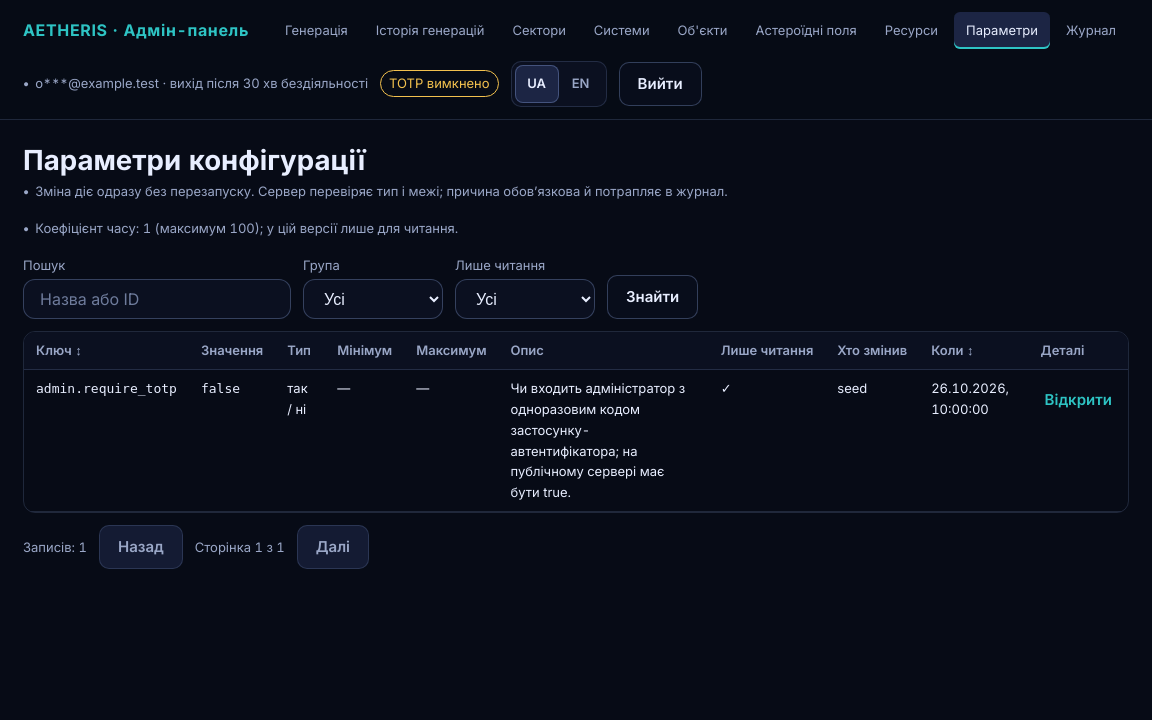
Test case: AdminApp › keeps a read-only parameter closed
Click the button "Відкрити" at coordinates (1078, 400), box [1041,378,1116,422]
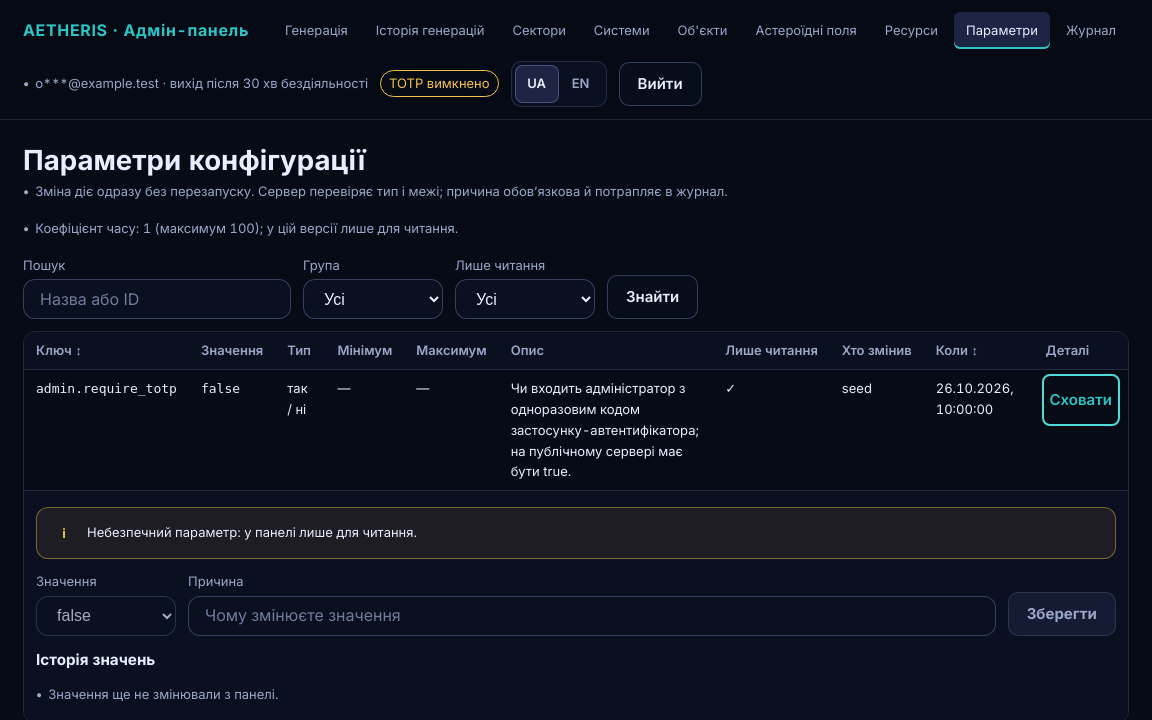
Now the text "Небезпечний параметр: у панелі лише для читання." is shown, box [87,522,417,543]
Now the button "Зберегти" is disabled, box [1008,592,1116,636]
